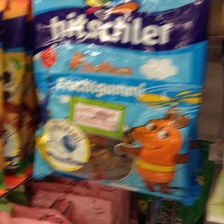candy: (32, 1, 206, 202)
